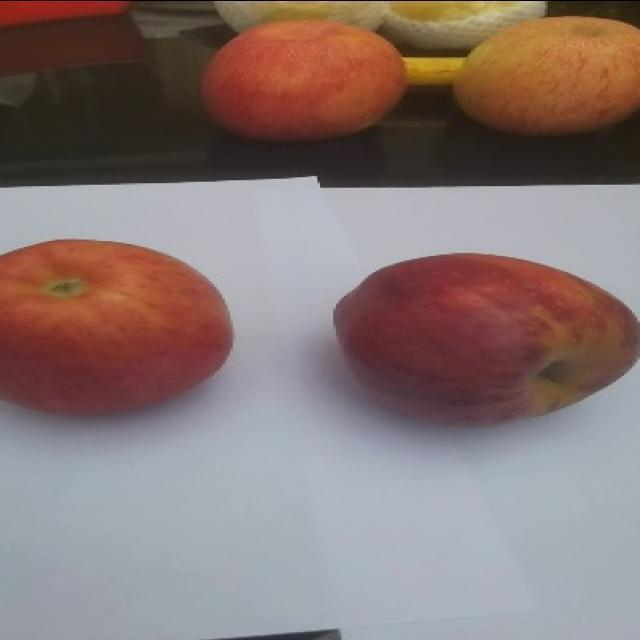Apple: (331, 251, 639, 426), (0, 237, 233, 416), (200, 18, 407, 142), (452, 14, 639, 136)
